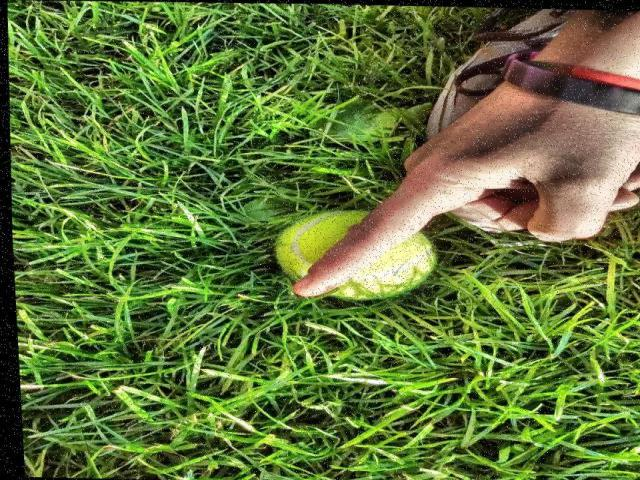tennis-ball: (273, 207, 437, 300)
